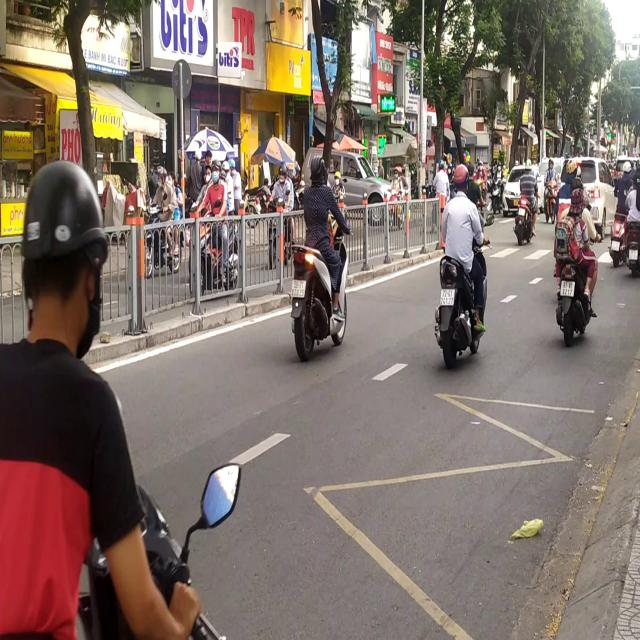bien_trang: (559, 280, 575, 297), (291, 280, 306, 298), (440, 288, 455, 306)
